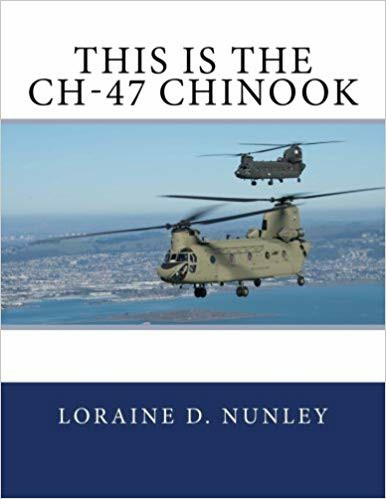chinook: (116, 191, 377, 299), (204, 141, 351, 183)
